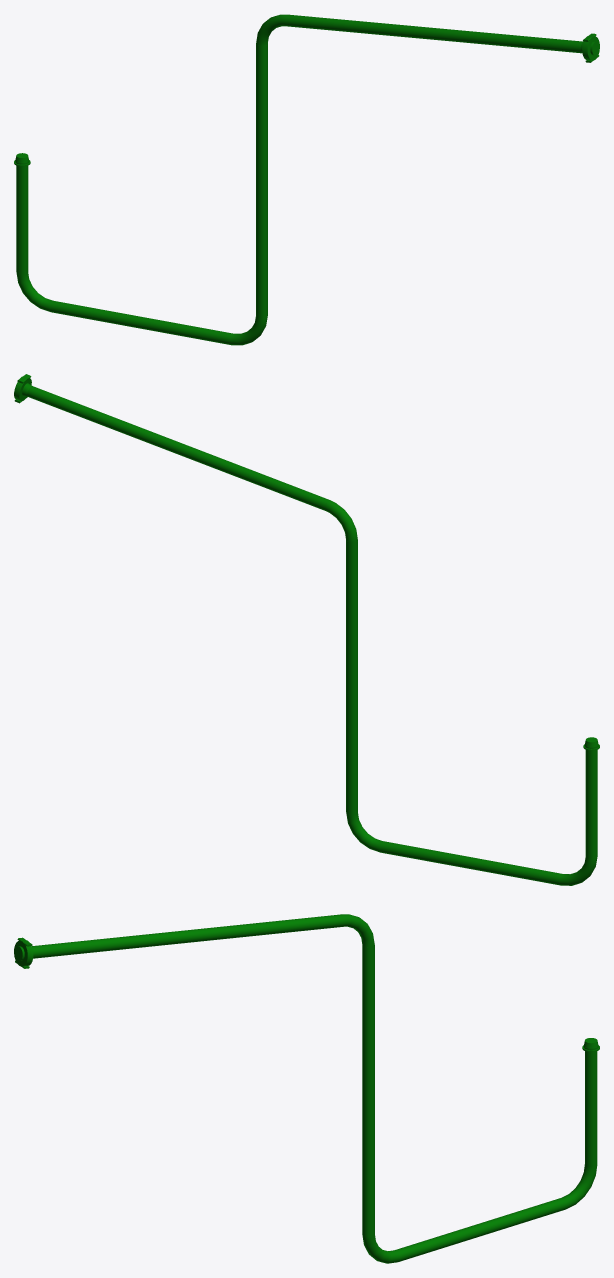
Rendered from Image-1710907555297-2281448031840_BRIDGE-FIREWATER.fbx.
3 renders of one model, top to bottom at view 1: azimuth 30°, elevation 25°; view 2: azimuth 210°, elevation 25°; view 3: azimuth 270°, elevation 25°, orthographic. The views are drawn at different scales.
Visible parts, largest first — view 1: Cylinder (×4), ELBOW 3 of BRANCH 1 of PIPE /BRIDGE-FIREWATER, ELBOW 2 of BRANCH 1 of PIPE /BRIDGE-FIREWATER, ELBOW 1 of BRANCH 1 of PIPE /BRIDGE-FIREWATER; view 2: Cylinder (×4); view 3: Cylinder (×4), ELBOW 3 of BRANCH 1 of PIPE /BRIDGE-FIREWATER, ELBOW 2 of BRANCH 1 of PIPE /BRIDGE-FIREWATER, ELBOW 1 of BRANCH 1 of PIPE /BRIDGE-FIREWATER.
Boxes of the visible parts, left/top/right/bottom form: Cylinder (×4): left=16, top=14, right=582, bottom=344; ELBOW 3 of BRANCH 1 of PIPE /BRIDGE-FIREWATER: left=16, top=272, right=52, bottom=311; ELBOW 2 of BRANCH 1 of PIPE /BRIDGE-FIREWATER: left=230, top=316, right=267, bottom=345; ELBOW 1 of BRANCH 1 of PIPE /BRIDGE-FIREWATER: left=256, top=14, right=285, bottom=45; Cylinder (×4): left=27, top=386, right=597, bottom=885; Cylinder (×4): left=32, top=914, right=597, bottom=1261; ELBOW 3 of BRANCH 1 of PIPE /BRIDGE-FIREWATER: left=562, top=1164, right=597, bottom=1208; ELBOW 2 of BRANCH 1 of PIPE /BRIDGE-FIREWATER: left=362, top=1234, right=399, bottom=1263; ELBOW 1 of BRANCH 1 of PIPE /BRIDGE-FIREWATER: left=344, top=914, right=374, bottom=947.
Bounding box in the file's own units: 5.23 × 7.82 × 6.12.
